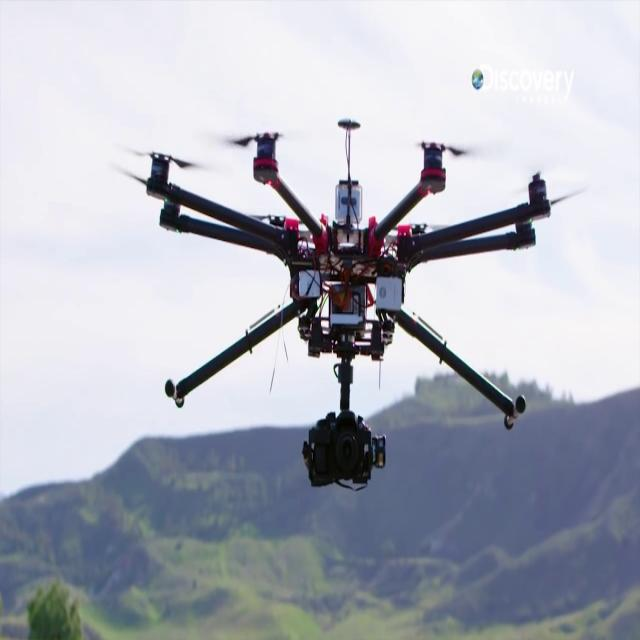drone: (119, 61, 569, 565)
